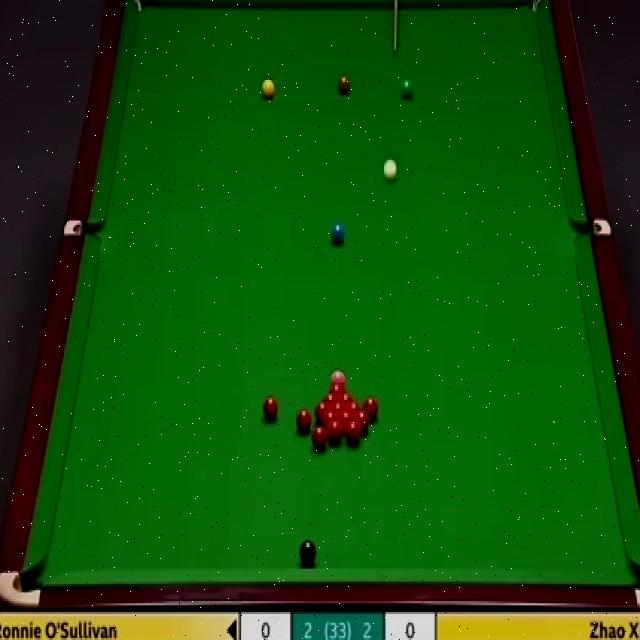black-ball: (299, 536, 317, 566)
blue-ball: (329, 221, 346, 247)
brown-ball: (337, 76, 350, 95)
green-ball: (401, 78, 413, 100)
pink-ball: (331, 371, 347, 384)
red-ball: (262, 397, 280, 424), (295, 408, 312, 436), (364, 393, 381, 420), (311, 426, 328, 453), (346, 419, 364, 443), (327, 420, 342, 446), (355, 410, 371, 434), (322, 409, 339, 431), (338, 410, 354, 431), (337, 393, 356, 407), (329, 383, 348, 393), (328, 401, 345, 412), (315, 401, 329, 414), (322, 393, 339, 403), (346, 402, 361, 412)
white-ball: (382, 154, 398, 182)
yellow-ball: (261, 76, 276, 100)
